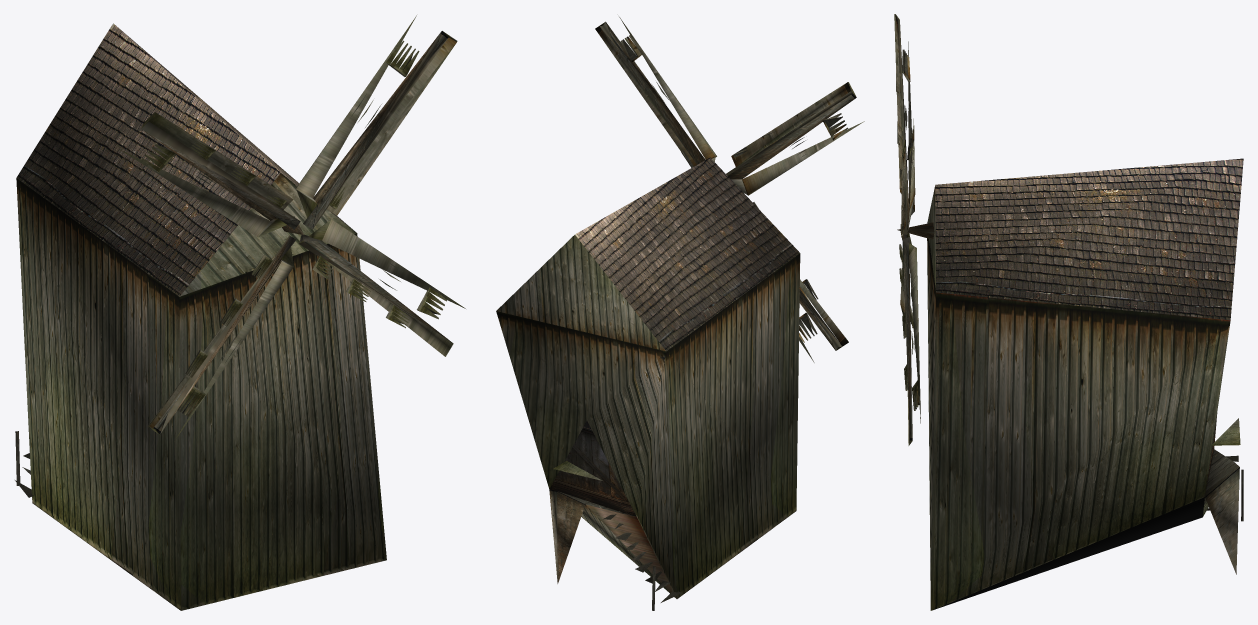
3 views of the same model, side by side, from view 1: azimuth 30°, elevation 25°; view 2: azimuth 150°, elevation 25°; view 3: azimuth 270°, elevation 25° (orthographic). The views are drawn at different scales.
Visible parts, largest first — view 1: natalin; view 2: natalin; view 3: natalin.
Part boxes in pixels (left/top/right/bottom): natalin: left=15, top=15, right=465, bottom=610; natalin: left=496, top=17, right=864, bottom=610; natalin: left=894, top=14, right=1243, bottom=610.
Bounding box in the file's own units: 441 × 649 × 406.
